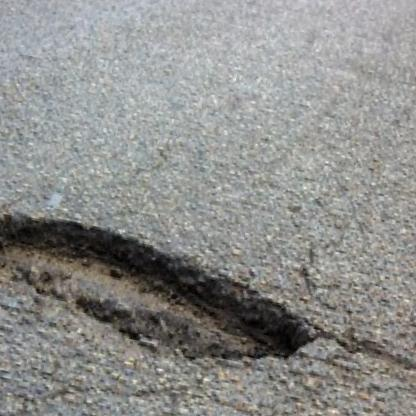pothole: (0, 195, 328, 387)
